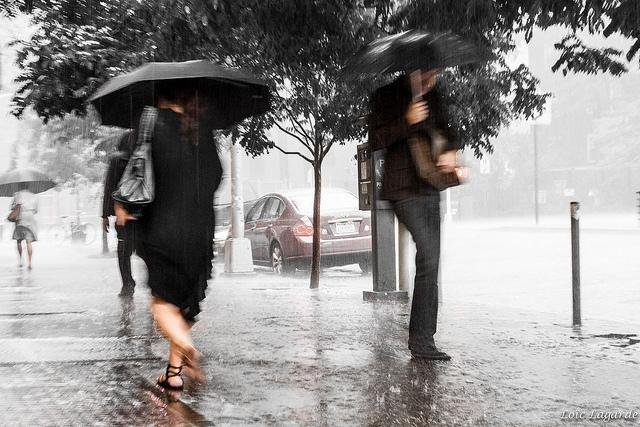bicycle: (46, 210, 96, 246)
car: (243, 186, 374, 278), (212, 173, 260, 264)
